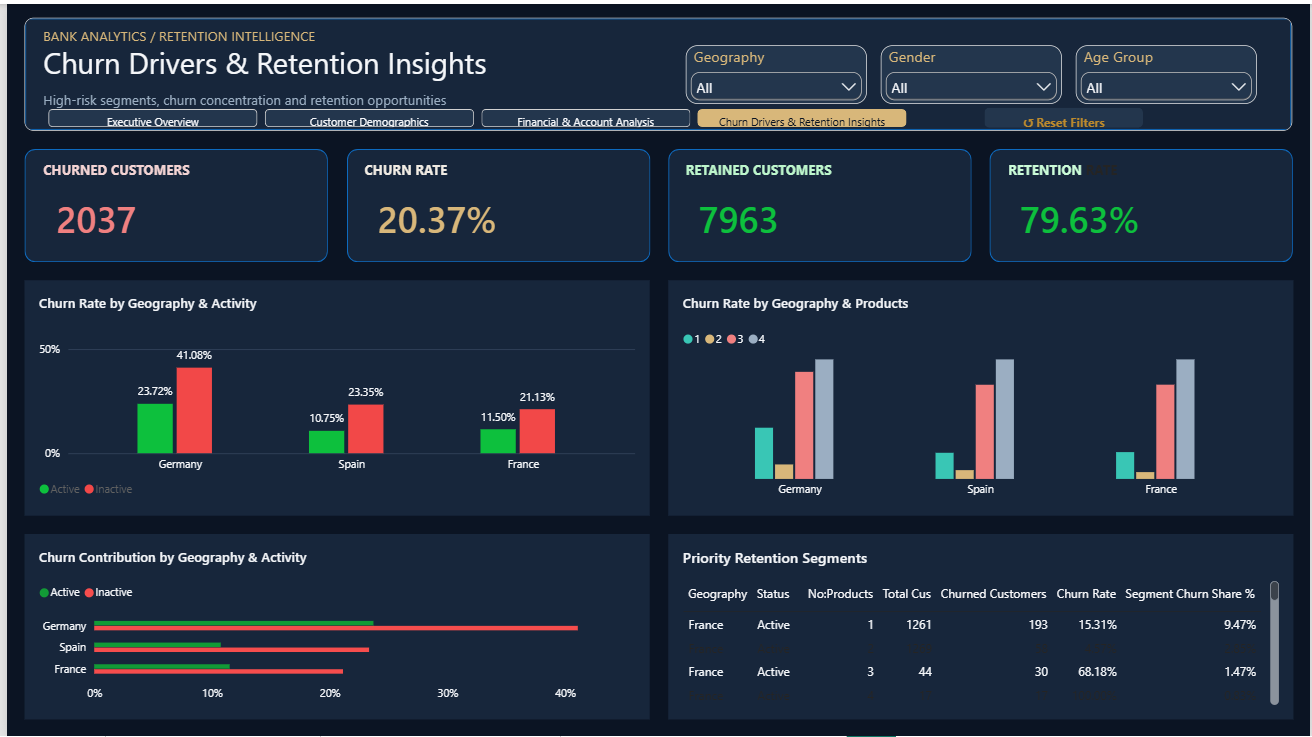

Layout of this report page (visuals, bound fields, positions):
{"tool":"powerbi","page":{"name":"Churn Drivers & Retention Insights","canvas":[1440,810],"ordinal":3},"visuals":[{"type":"shape","box":[20,15,1400,125],"z":0},{"type":"textbox","box":[40,43,550,45],"z":1000},{"type":"textbox","box":[40,95,650,30],"z":2000},{"type":"textbox","box":[40,25,650,20],"z":3000},{"type":"shape","box":[20,160,335,125],"z":4000},{"type":"textbox","box":[40,173,240,25],"z":5000},{"type":"cardVisual","fields":{"Data":["_Measures.Churned Customers"]},"box":[38,204,280,65],"z":6000},{"type":"shape","box":[375.5,160,335,125],"z":7000},{"type":"textbox","box":[395.5,173,240,25],"z":8000},{"type":"cardVisual","fields":{"Data":["_Measures.Churn Rate"]},"box":[393.5,204,280,65],"z":9000},{"type":"shape","box":[730,160,335,125],"z":10000},{"type":"textbox","box":[750,173,240,25],"z":11000},{"type":"cardVisual","fields":{"Data":["_Measures.Retained Customers"]},"box":[748,204,280,65],"z":12000},{"type":"shape","box":[1085,160,335,125],"z":13000},{"type":"textbox","box":[1105,173,240,25],"z":14000},{"type":"cardVisual","fields":{"Data":["_Measures.Retention Rate"]},"box":[1103,204,280,65],"z":15000},{"type":"clusteredColumnChart","title":"Churn Rate by Geography & Activity","fields":{"Category":["Bank_Customers.Geography"],"Series":["Bank_Customers.Activity Status"],"Y":["_Measures.Churn Rate"]},"box":[20,305,690,260],"z":16000},{"type":"clusteredColumnChart","title":"Churn Rate by Geography & Products","fields":{"Category":["Bank_Customers.Geography"],"Series":["Bank_Customers.NumOfProducts"],"Y":["_Measures.Churn Rate"]},"box":[730,305,690,260],"z":17000},{"type":"clusteredBarChart","title":"Churn Contribution by Geography & Activity","fields":{"Category":["Bank_Customers.Geography"],"Series":["Bank_Customers.Activity Status"],"Y":["_Measures.Churn Rate"]},"box":[20,585,690,205],"z":18000},{"type":"tableEx","title":"Priority Retention Segments","fields":{"Values":["Bank_Customers.Geography","Bank_Customers.Activity Status","Bank_Customers.NumOfProducts","_Measures.Total Customers","_Measures.Churned Customers","_Measures.Churn Rate","_Measures.Segment Churn Share %"]},"box":[730,585,690,205],"z":19000},{"type":"slicer","title":"Geography","fields":{"Values":["Bank_Customers.Geography"]},"box":[750,45,200,65],"z":20000},{"type":"slicer","title":"Geography","fields":{"Values":["Bank_Customers.Gender"]},"box":[965,45,200,65.1],"z":21000},{"type":"slicer","title":"Geography","fields":{"Values":["Bank_Customers.Age Group"]},"box":[1180,45,200,65.1],"z":22000},{"type":"actionButton","box":[1080,115,175,22],"z":23000},{"type":"pageNavigator","title":"Executive","box":[45,116,950,20],"z":23001}]}

Visuals, with their boxes in screenshot pixels (x1, y1, x2, y2), scaled from the page's 1440x810 canvas onto the 1312x737 screenshot:
shape: pyautogui.locateOnScreen(18, 14, 1294, 127)
textbox: pyautogui.locateOnScreen(36, 39, 538, 80)
textbox: pyautogui.locateOnScreen(36, 86, 629, 114)
textbox: pyautogui.locateOnScreen(36, 23, 629, 41)
shape: pyautogui.locateOnScreen(18, 146, 323, 259)
textbox: pyautogui.locateOnScreen(36, 157, 255, 180)
cardVisual - _Measures.Churned Customers: pyautogui.locateOnScreen(35, 186, 290, 245)
shape: pyautogui.locateOnScreen(342, 146, 647, 259)
textbox: pyautogui.locateOnScreen(360, 157, 579, 180)
cardVisual - _Measures.Churn Rate: pyautogui.locateOnScreen(359, 186, 614, 245)
shape: pyautogui.locateOnScreen(665, 146, 970, 259)
textbox: pyautogui.locateOnScreen(683, 157, 902, 180)
cardVisual - _Measures.Retained Customers: pyautogui.locateOnScreen(682, 186, 937, 245)
shape: pyautogui.locateOnScreen(989, 146, 1294, 259)
textbox: pyautogui.locateOnScreen(1007, 157, 1225, 180)
cardVisual - _Measures.Retention Rate: pyautogui.locateOnScreen(1005, 186, 1260, 245)
"Churn Rate by Geography & Activity" clusteredColumnChart: pyautogui.locateOnScreen(18, 278, 647, 514)
"Churn Rate by Geography & Products" clusteredColumnChart: pyautogui.locateOnScreen(665, 278, 1294, 514)
"Churn Contribution by Geography & Activity" clusteredBarChart: pyautogui.locateOnScreen(18, 532, 647, 719)
"Priority Retention Segments" tableEx: pyautogui.locateOnScreen(665, 532, 1294, 719)
"Geography" slicer: pyautogui.locateOnScreen(683, 41, 866, 100)
"Geography" slicer: pyautogui.locateOnScreen(879, 41, 1061, 100)
"Geography" slicer: pyautogui.locateOnScreen(1075, 41, 1257, 100)
actionButton: pyautogui.locateOnScreen(984, 105, 1143, 125)
"Executive" pageNavigator: pyautogui.locateOnScreen(41, 106, 907, 124)
